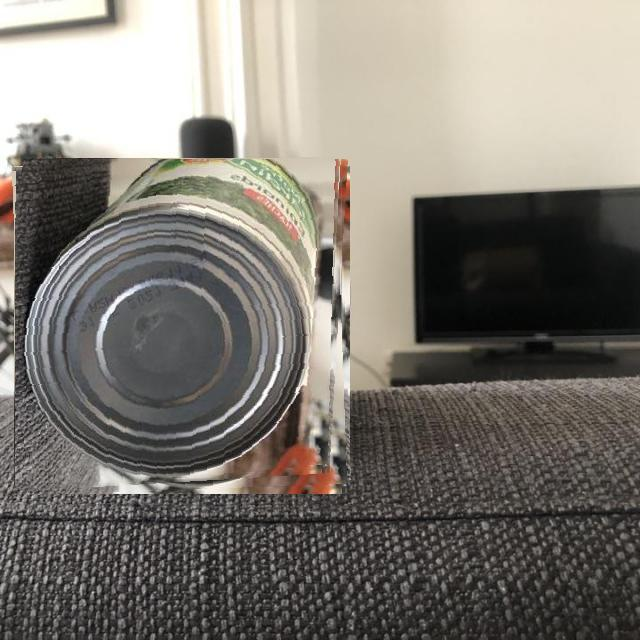recyclable: (15, 159, 349, 493)
